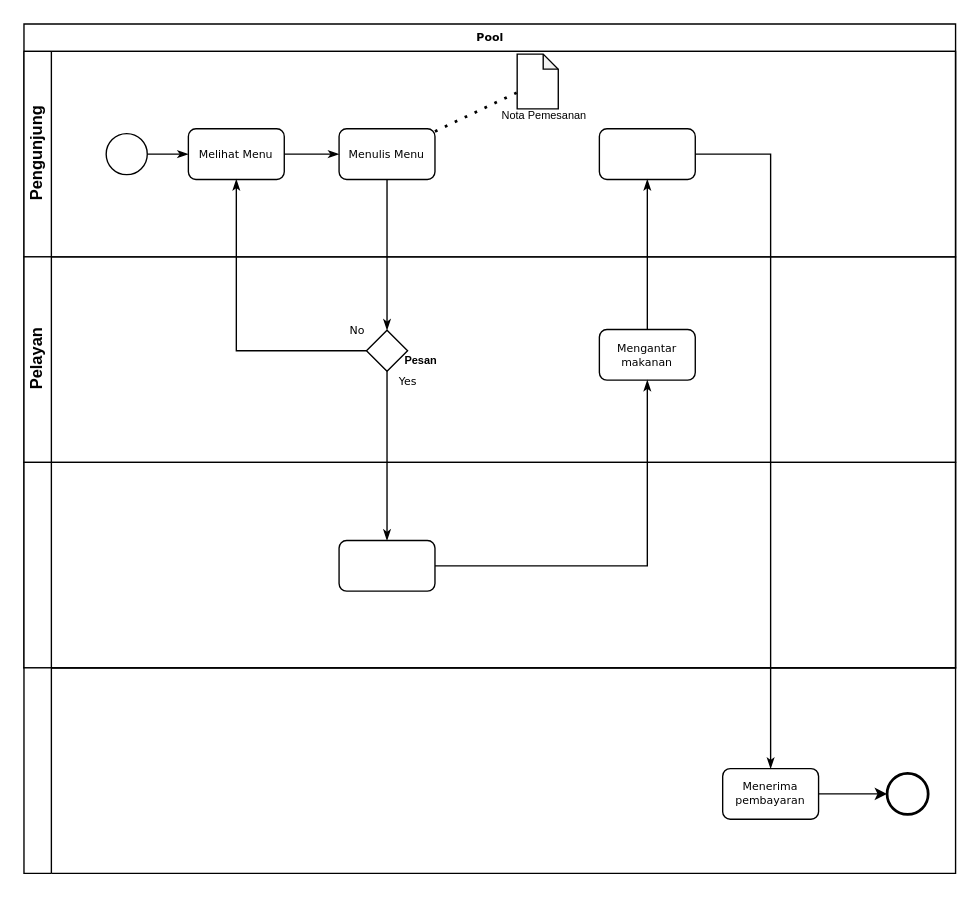
The diagram is 980 pixels wide and 897 high, and some of its shapes have lost their labels. Here are the shapes that lost their labels. From the top down, the box of each, then its label:
(598, 127, 695, 179): menikmati makanan
(338, 539, 435, 591): Memasak makanan
(23, 461, 956, 668): Juru Masak
(23, 667, 956, 873): Kasir
